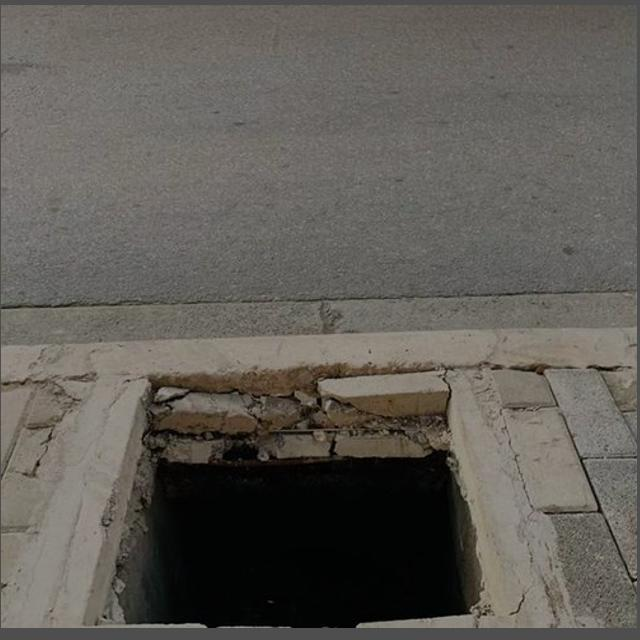lose: (51, 338, 523, 625)
